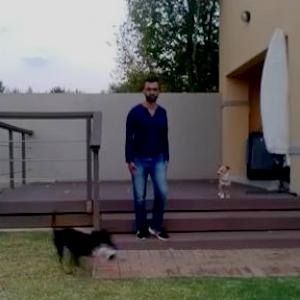follow: (123, 77, 169, 267)
